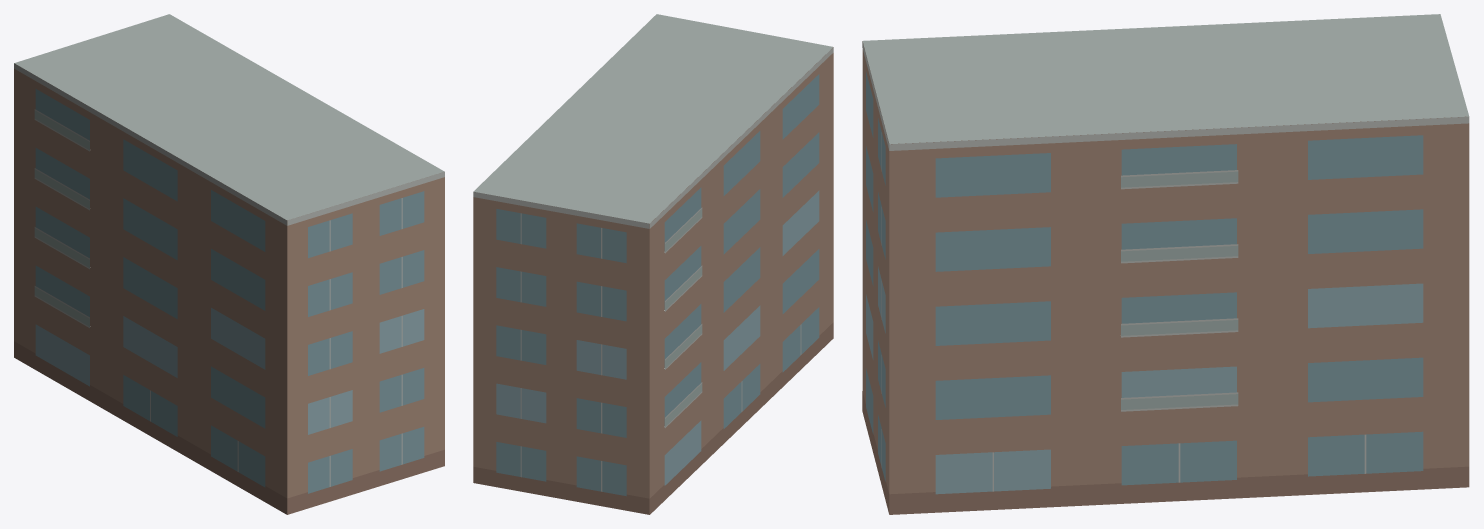
File: survey-upis-32890049.glb
The picture shows the model from 3 angles, left to right: view 1: azimuth 30°, elevation 25°; view 2: azimuth 150°, elevation 25°; view 3: azimuth 270°, elevation 25°; orthographic projection. The views are drawn at different scales.
Parts seen in each view (by area): view 1: survey-upis-32890049.tmp; view 2: survey-upis-32890049.tmp; view 3: survey-upis-32890049.tmp.
Part boxes in pixels (x1,y1,x2,y2): survey-upis-32890049.tmp: (14,14,444,514); survey-upis-32890049.tmp: (473,14,833,514); survey-upis-32890049.tmp: (862,14,1469,514).
Bounding box in the file's own units: 9.95 × 13.2 × 19.6.
